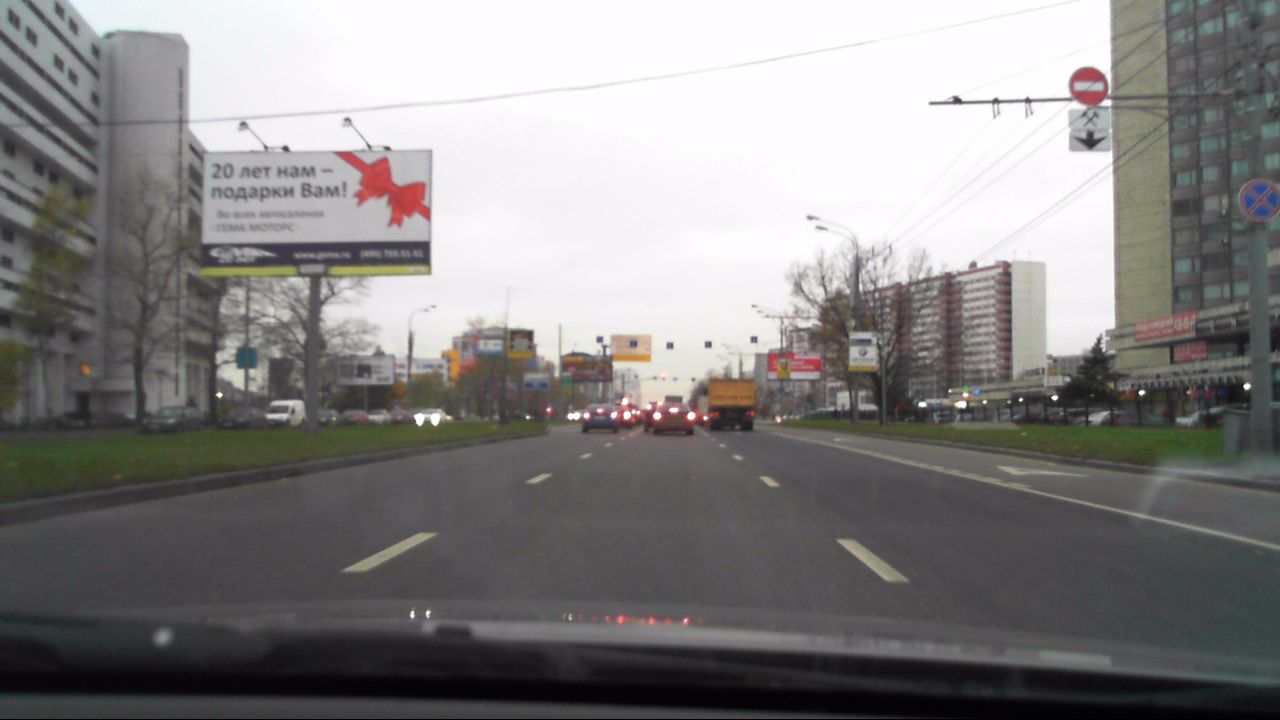No Parking: (1237, 179, 1279, 220)
